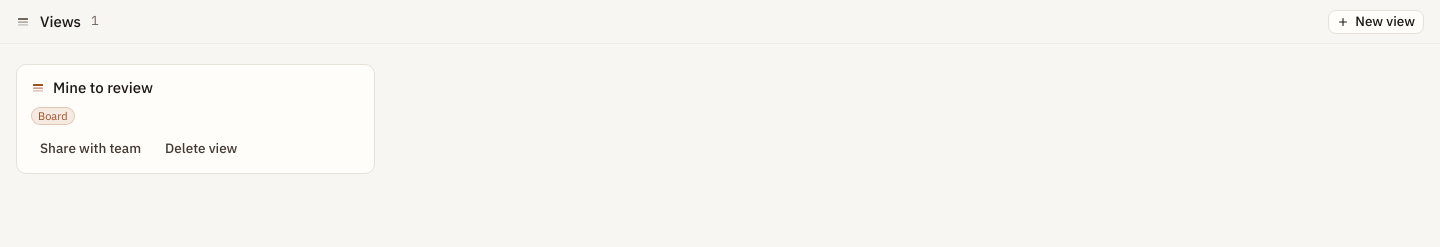
it: ViewsPage saved views (INV-1005) › deletes a view through savedViewDelete and drops it from the list
The image size is (1440, 247).
Click the button "Delete view". click: coordinates (201, 149)
box: [156,137,246,161]
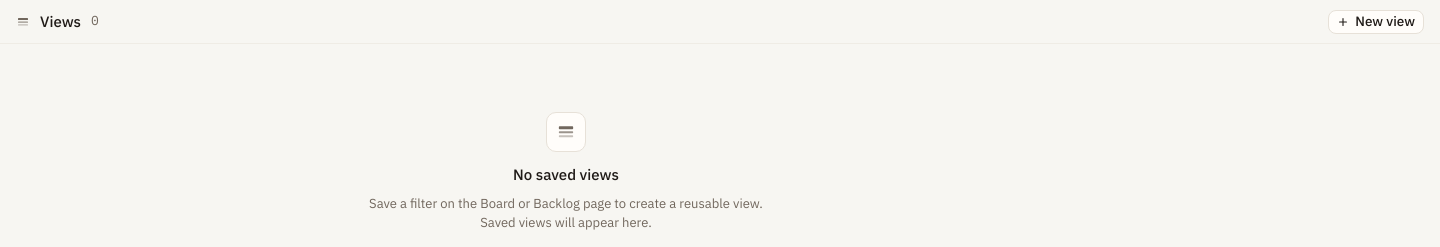
Now the field labelled "view Mine to review" is gone
